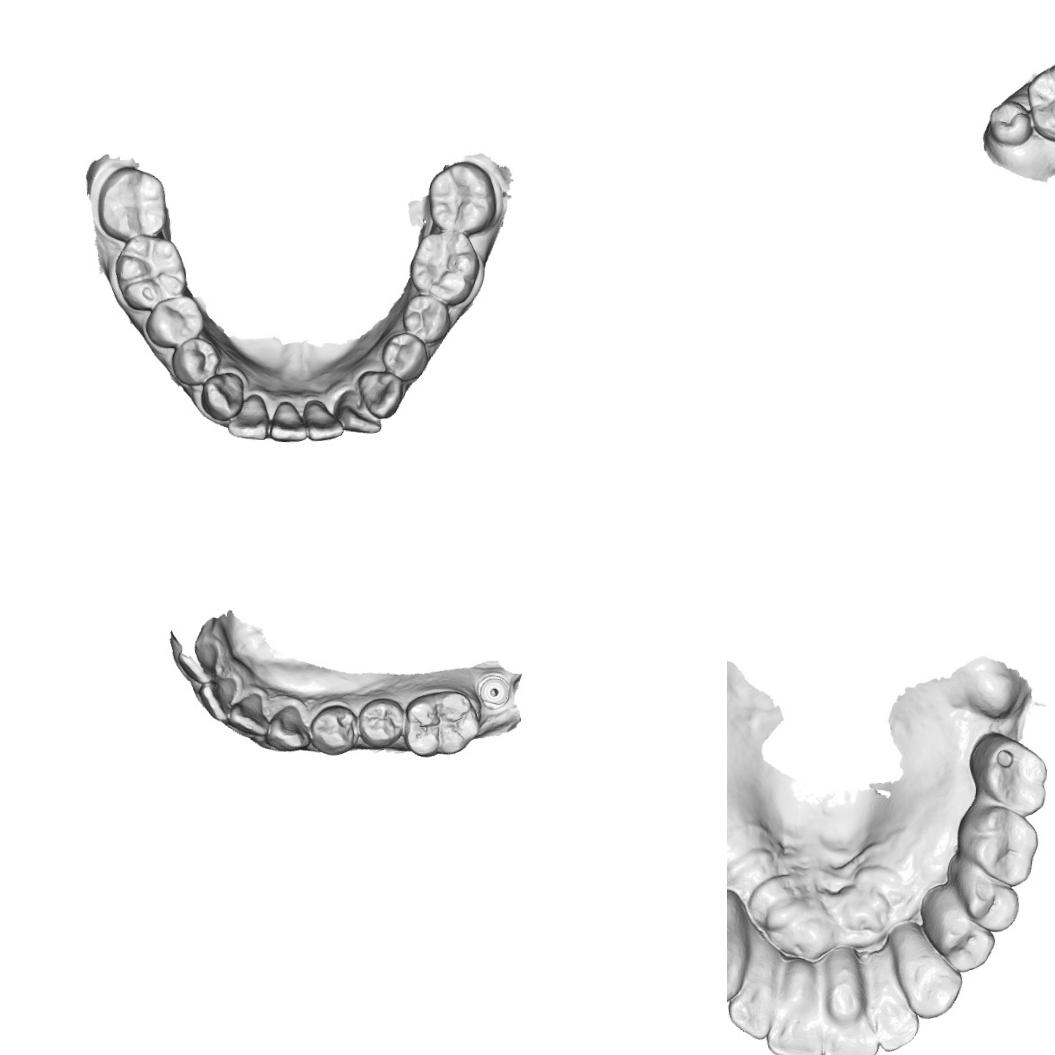canine: (894, 936, 965, 1020), (727, 886, 751, 1004), (354, 368, 404, 419), (262, 703, 312, 754), (198, 370, 245, 422)
implant: (475, 671, 511, 710)
incisor: (822, 949, 884, 1055), (764, 954, 827, 1055), (862, 950, 923, 1053), (727, 928, 778, 1041), (333, 388, 384, 434), (225, 690, 272, 738), (226, 391, 271, 440), (195, 673, 238, 724), (174, 639, 219, 686), (300, 398, 345, 442), (268, 398, 308, 442)
molar: (964, 729, 1049, 819), (954, 804, 1040, 888), (112, 230, 188, 314), (94, 163, 170, 244), (406, 226, 481, 308), (402, 686, 482, 760), (424, 158, 499, 235), (1020, 55, 1055, 143), (982, 96, 1034, 148)
premolar: (918, 887, 997, 975), (942, 853, 1020, 932), (143, 292, 206, 350), (168, 334, 222, 387), (307, 702, 360, 756), (399, 292, 452, 344), (379, 330, 430, 382), (356, 696, 404, 750)
